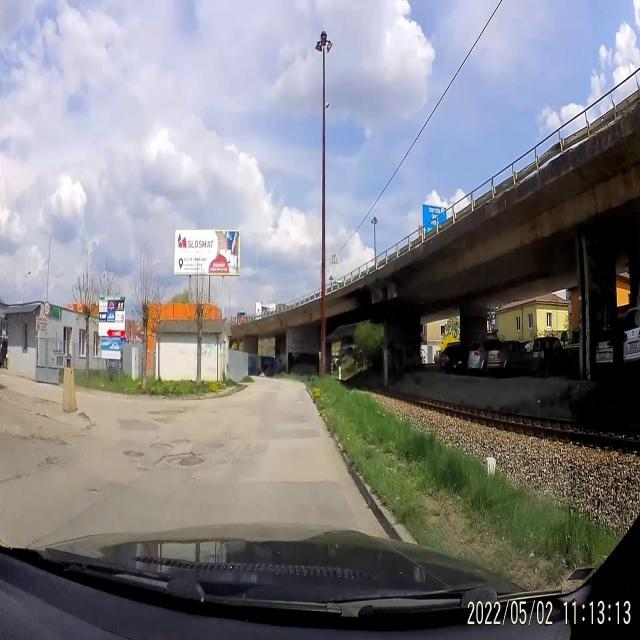Manhole: (120, 442, 144, 462), (176, 455, 202, 472), (172, 438, 192, 446)
Pothole: (156, 452, 210, 474), (150, 438, 175, 451), (135, 462, 149, 484), (82, 485, 105, 495)
